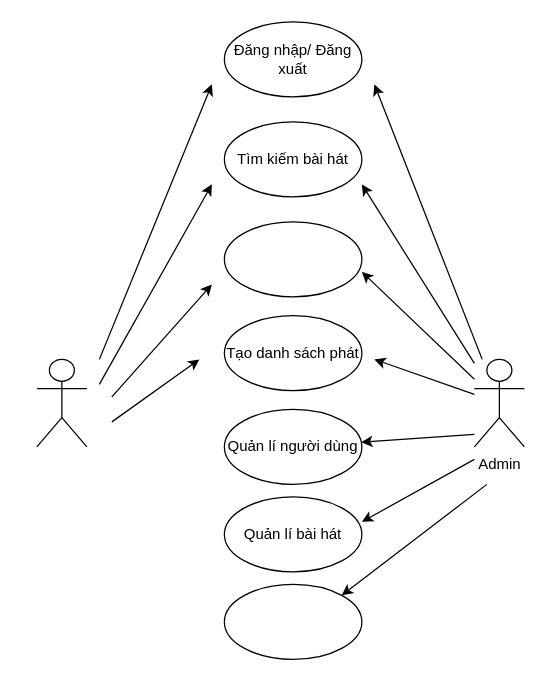
Some shapes in this 546 by 681 pixel diagram are drawn without their labels. Here are the shapes that lost their labels. From the top down, the centre of each, then its label:
(x=292, y=259): Thao tác bài hát
(x=61, y=402): Người dùng
(x=292, y=621): Quản lí bình luận
